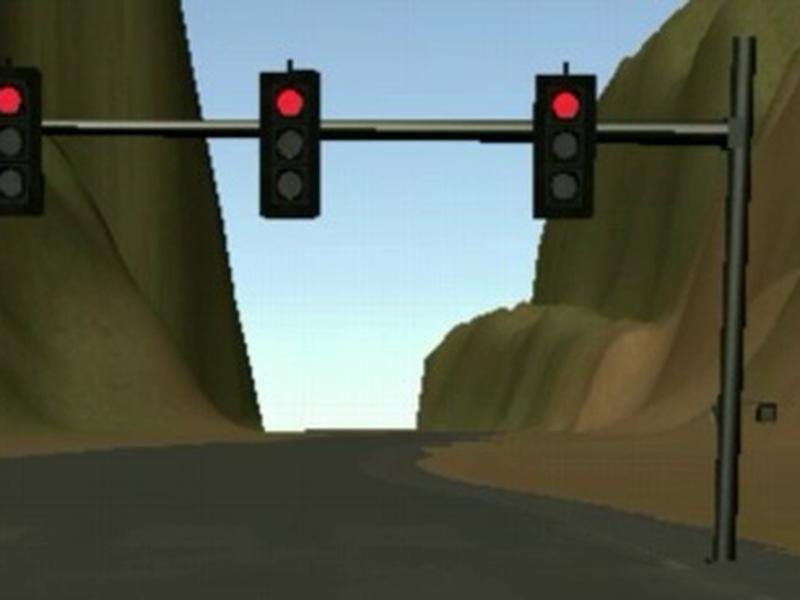Red: (532, 73, 596, 219), (259, 69, 321, 219), (1, 67, 44, 216)
